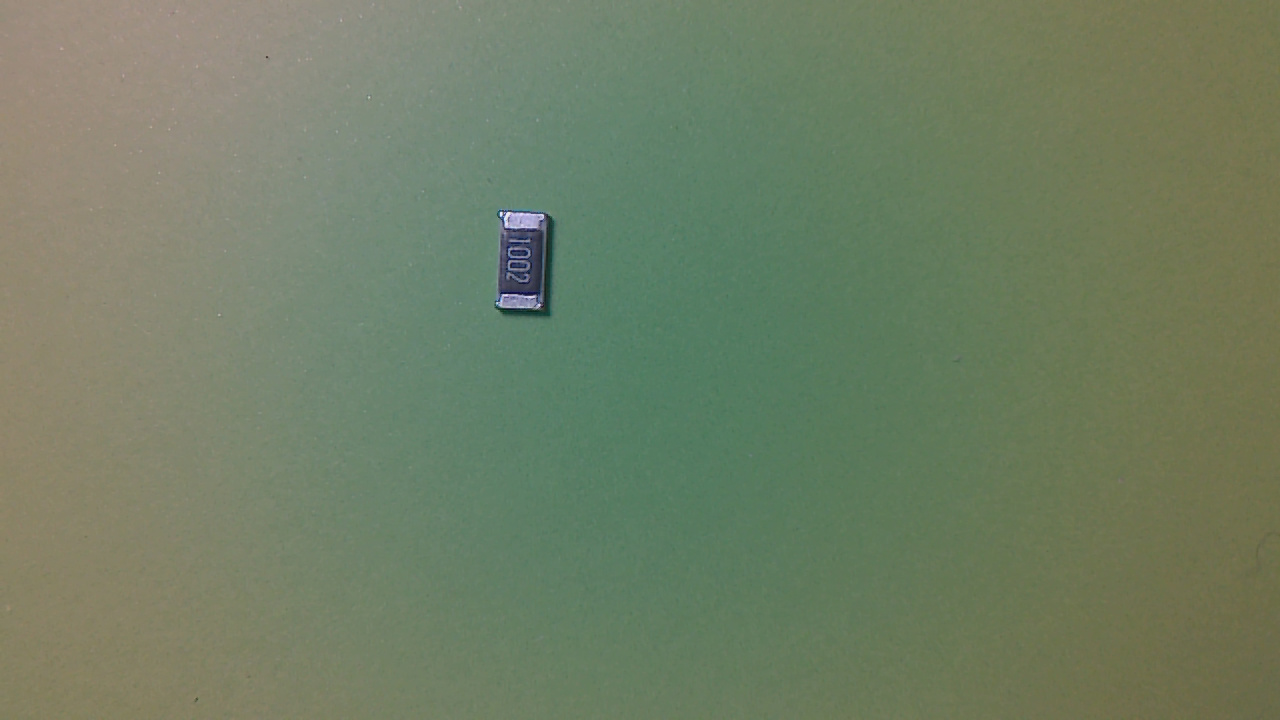Resistor: (496, 212, 562, 327)
